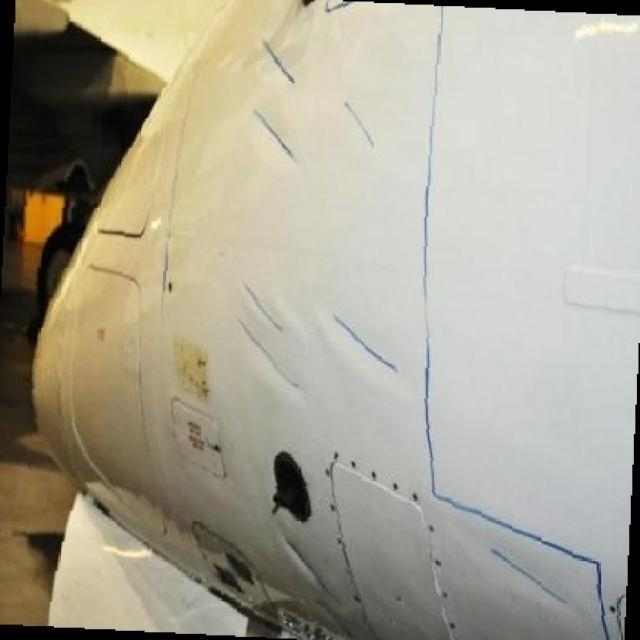dent: (238, 276, 307, 398), (312, 301, 401, 378), (489, 536, 575, 612), (284, 533, 332, 595), (255, 110, 300, 170)
